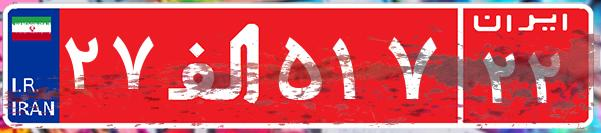1: (330, 28, 385, 110)
2: (57, 26, 110, 107), (475, 38, 525, 113), (525, 38, 570, 115)
5: (273, 28, 330, 110)
7: (385, 28, 445, 110), (110, 28, 158, 105)
الف: (158, 15, 273, 115)
